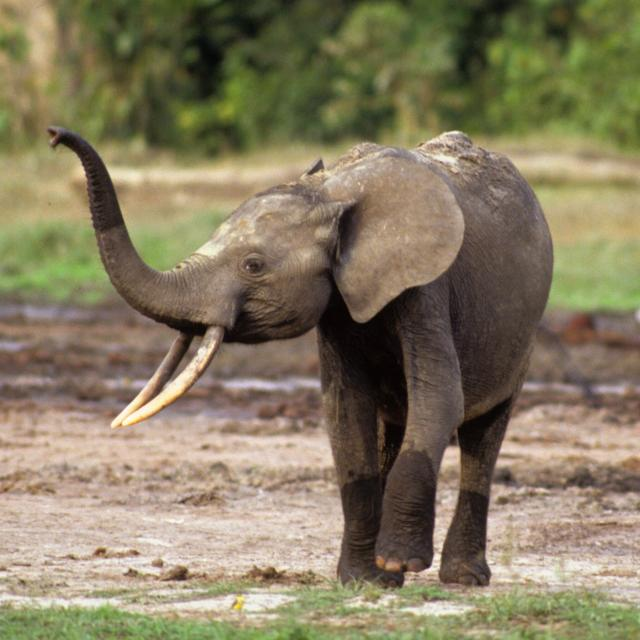elephant: (48, 127, 553, 585)
